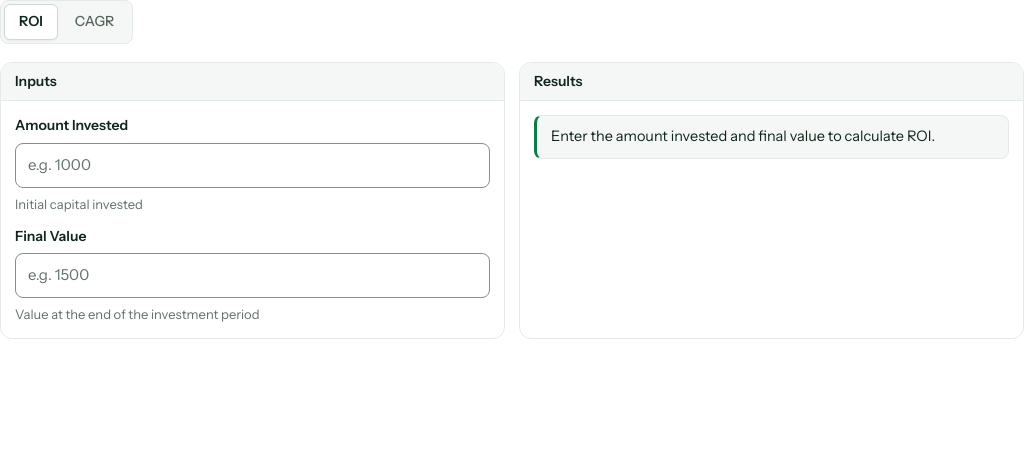
it: RoiCalculator — CAGR mode › shows info notice before any CAGR input
Click the tab "CAGR" at (95, 22), box left=60, top=4, right=129, bottom=40
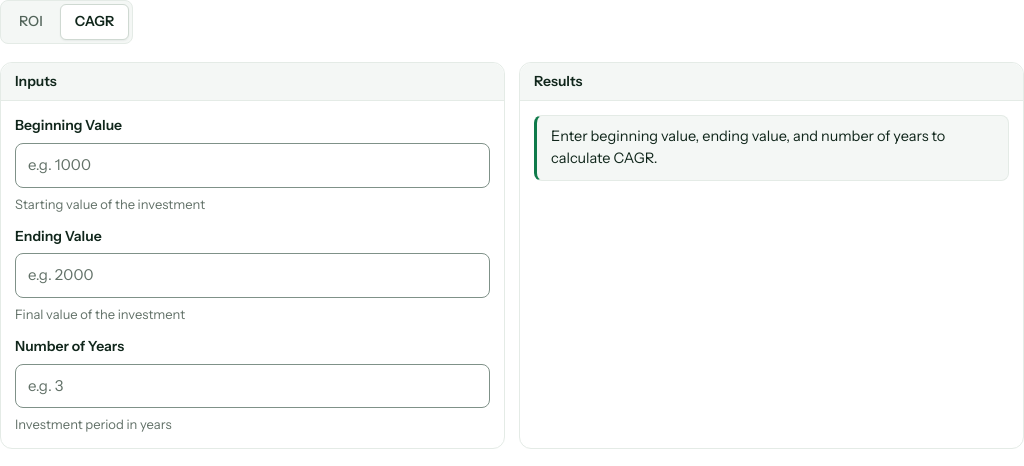
Now the text "Enter beginning value" is shown, box left=551, top=127, right=945, bottom=167
